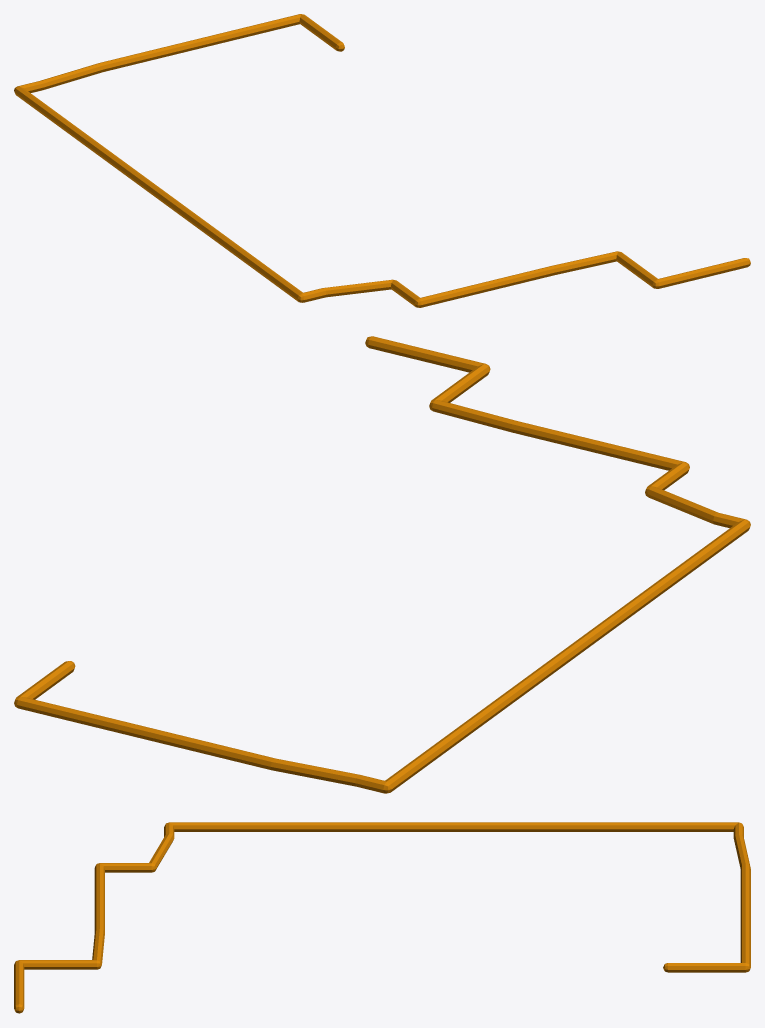
3 renders of one model, top to bottom at view 1: azimuth 30°, elevation 25°; view 2: azimuth 150°, elevation 25°; view 3: azimuth 270°, elevation 25°, orthographic. The views are drawn at different scales.
Size of the model in its own units: 849 by 20 by 1423.
